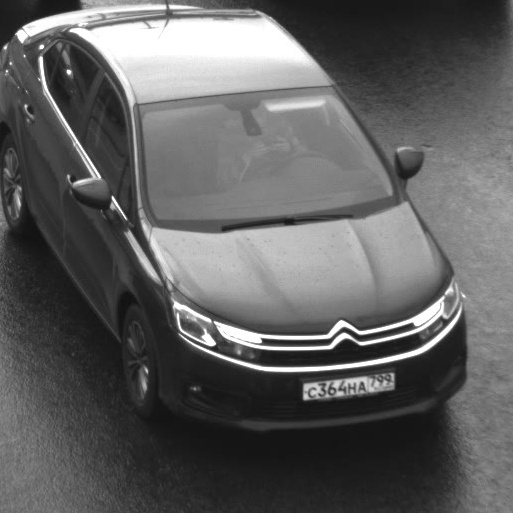plate: (288, 357, 403, 408)
